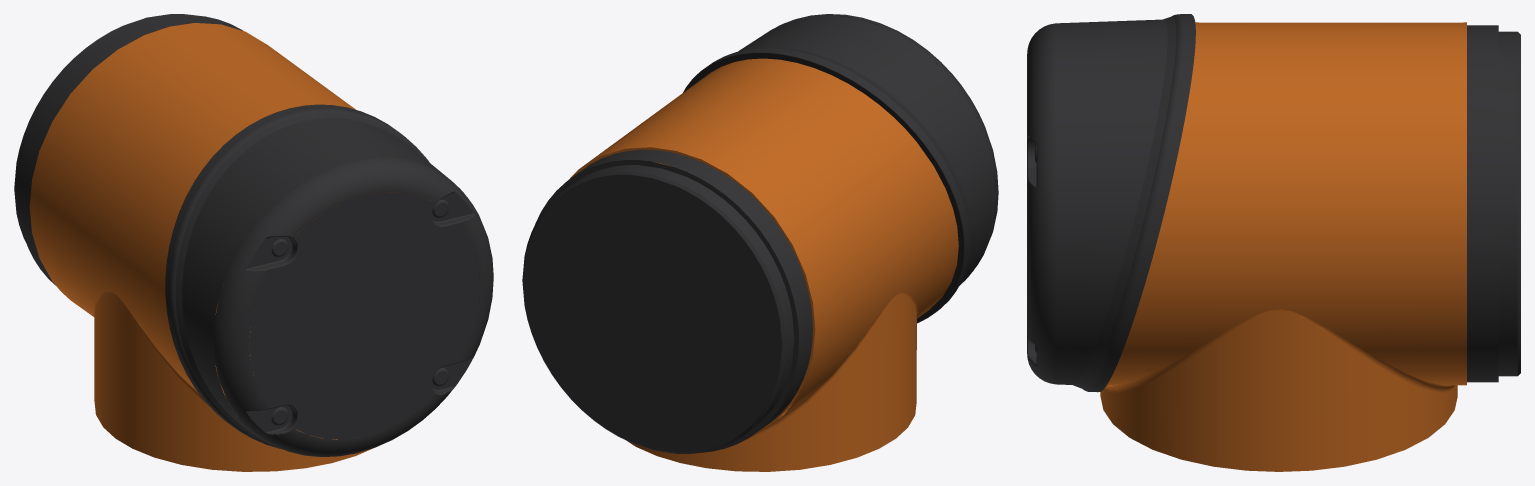
The picture shows the model from 3 angles, left to right: view 1: azimuth 30°, elevation 25°; view 2: azimuth 150°, elevation 25°; view 3: azimuth 270°, elevation 25°; orthographic projection. The views are drawn at different scales.
Visible parts, largest first — view 1: NONE-DC_Shell, NONE-DC_Shell_ncl1_2, NONE-DC_Shell_ncl1_1; view 2: NONE-DC_Shell_ncl1_1, NONE-DC_Shell_ncl1_2, NONE-DC_Shell; view 3: NONE-DC_Shell_ncl1_2, NONE-DC_Shell, NONE-DC_Shell_ncl1_1.
Boxes of the visible parts, left/top/right/bottom form: NONE-DC_Shell: left=165, top=104, right=493, bottom=456; NONE-DC_Shell_ncl1_2: left=29, top=23, right=431, bottom=471; NONE-DC_Shell_ncl1_1: left=14, top=14, right=276, bottom=291; NONE-DC_Shell_ncl1_1: left=522, top=149, right=812, bottom=453; NONE-DC_Shell_ncl1_2: left=569, top=58, right=958, bottom=471; NONE-DC_Shell: left=683, top=14, right=998, bottom=323; NONE-DC_Shell_ncl1_2: left=1100, top=22, right=1466, bottom=471; NONE-DC_Shell: left=1027, top=14, right=1195, bottom=392; NONE-DC_Shell_ncl1_1: left=1467, top=25, right=1520, bottom=382.
Bounding box in the file's own units: 0.1229 × 0.1603 × 0.1307.
